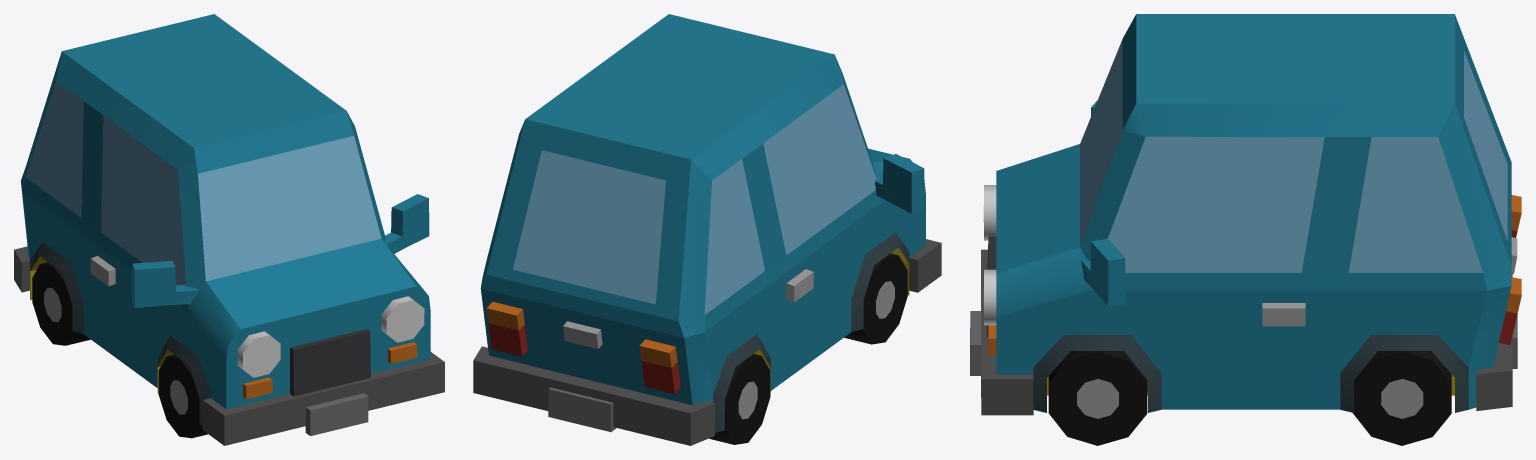
The model's file is Car_01_blue.fbx.
The picture shows the model from 3 angles, left to right: view 1: azimuth 30°, elevation 25°; view 2: azimuth 150°, elevation 25°; view 3: azimuth 270°, elevation 25°; orthographic projection. The views are drawn at different scales.
Visible parts, largest first — view 1: Car_01_blue; view 2: Car_01_blue; view 3: Car_01_blue.
Boxes of the visible parts, left/top/right/bottom form: Car_01_blue: left=14, top=14, right=444, bottom=445; Car_01_blue: left=473, top=14, right=941, bottom=445; Car_01_blue: left=970, top=14, right=1521, bottom=445.
Bounding box in the file's own units: 49.56 × 43.35 × 66.84.
